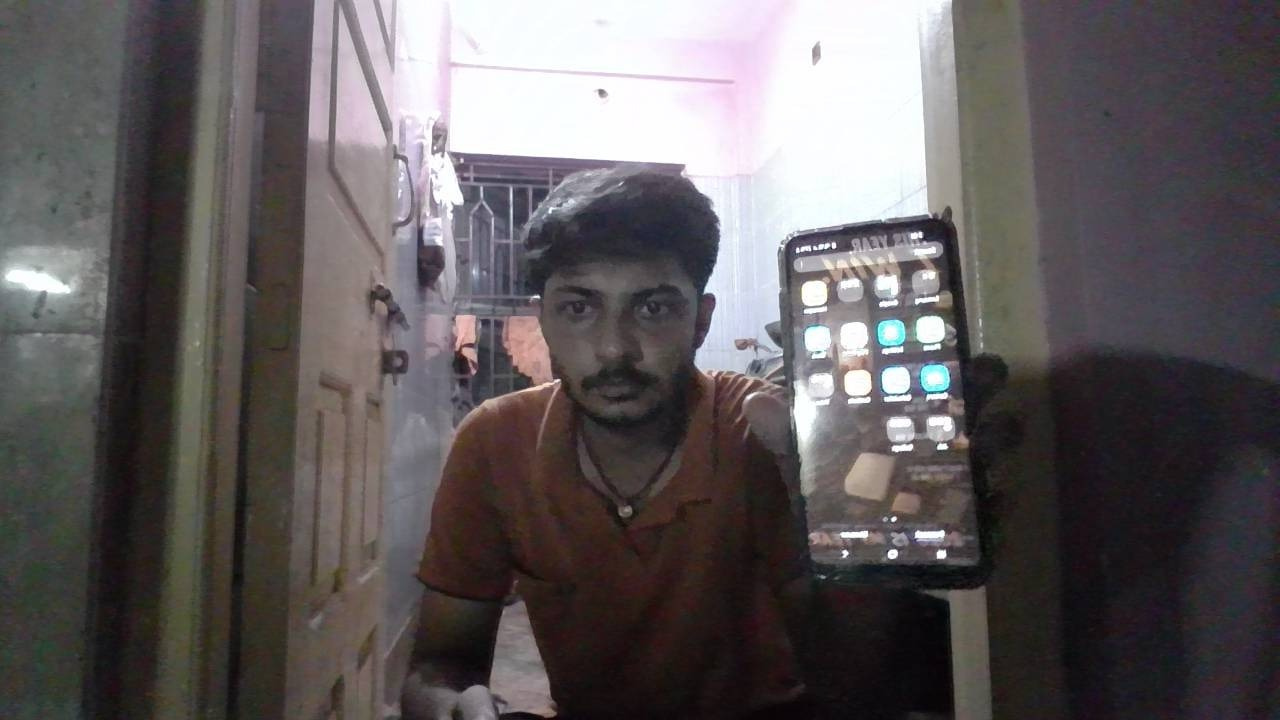red_box: (418, 394, 608, 585), (630, 420, 735, 537)
